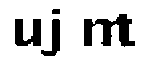j: (42, 6, 61, 60)
m: (77, 16, 124, 48)
t: (115, 9, 140, 54)
u: (11, 16, 43, 49)
